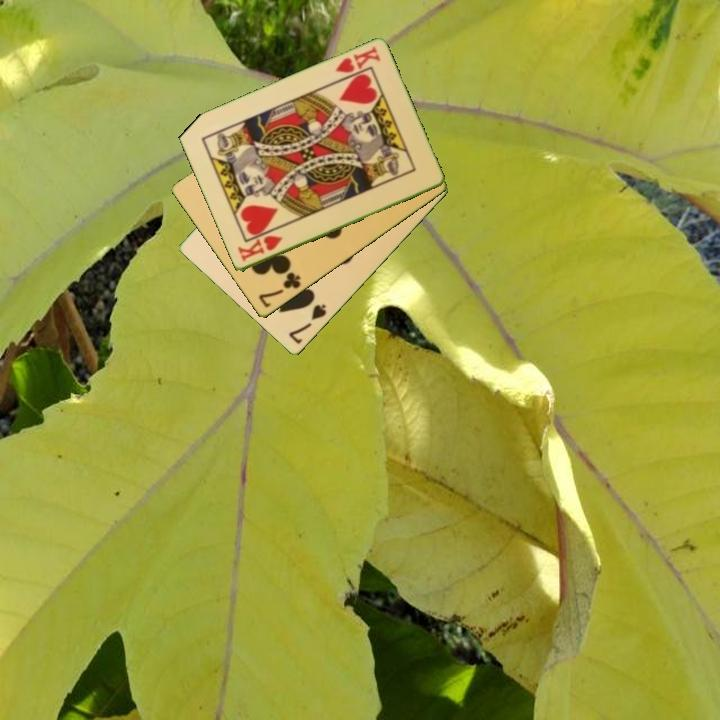7c: (255, 269, 304, 311)
7s: (285, 300, 330, 348)
Kh: (234, 232, 285, 265), (332, 43, 383, 76)
